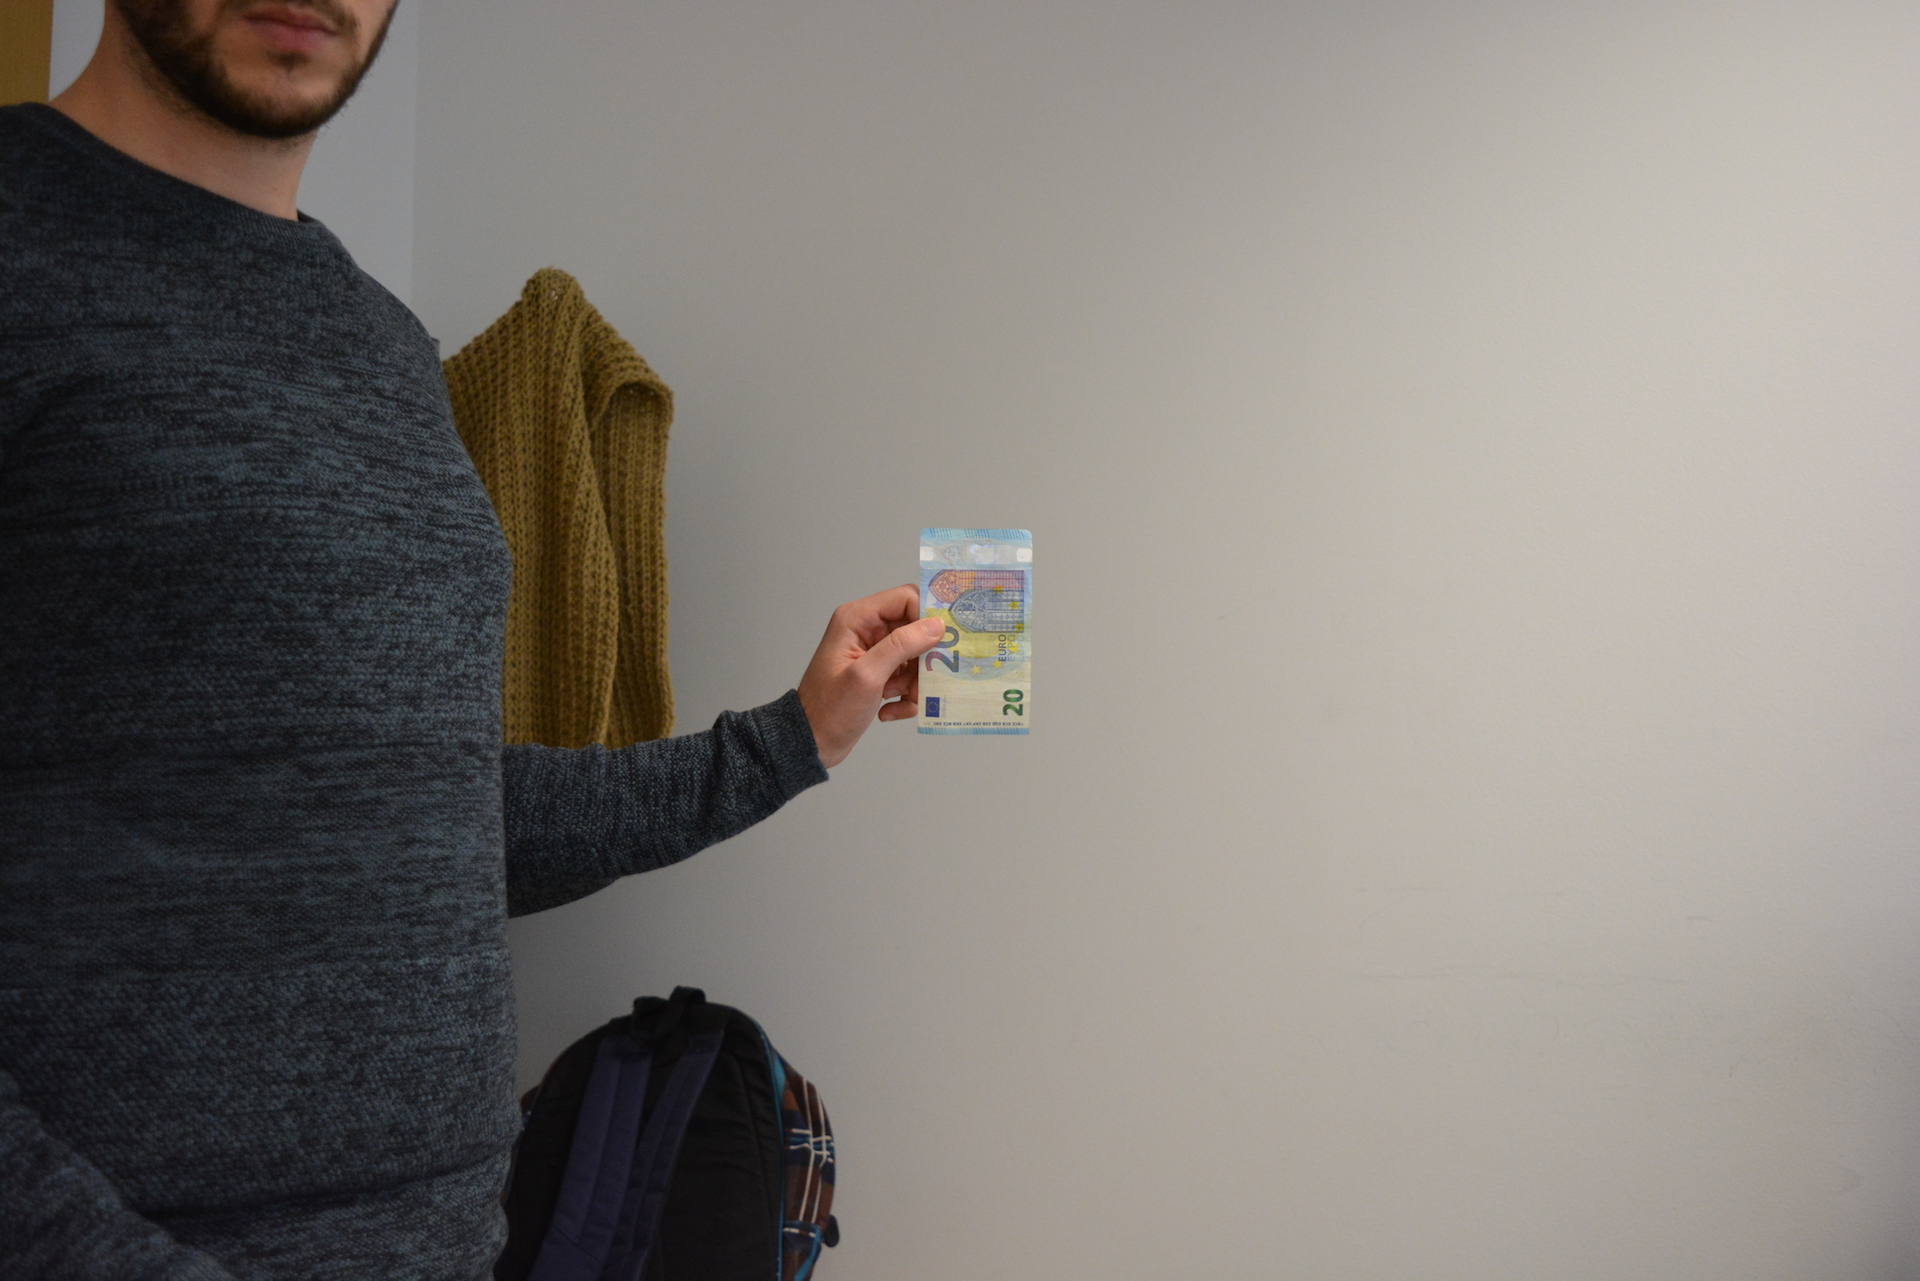billete: (916, 528, 1034, 736)
